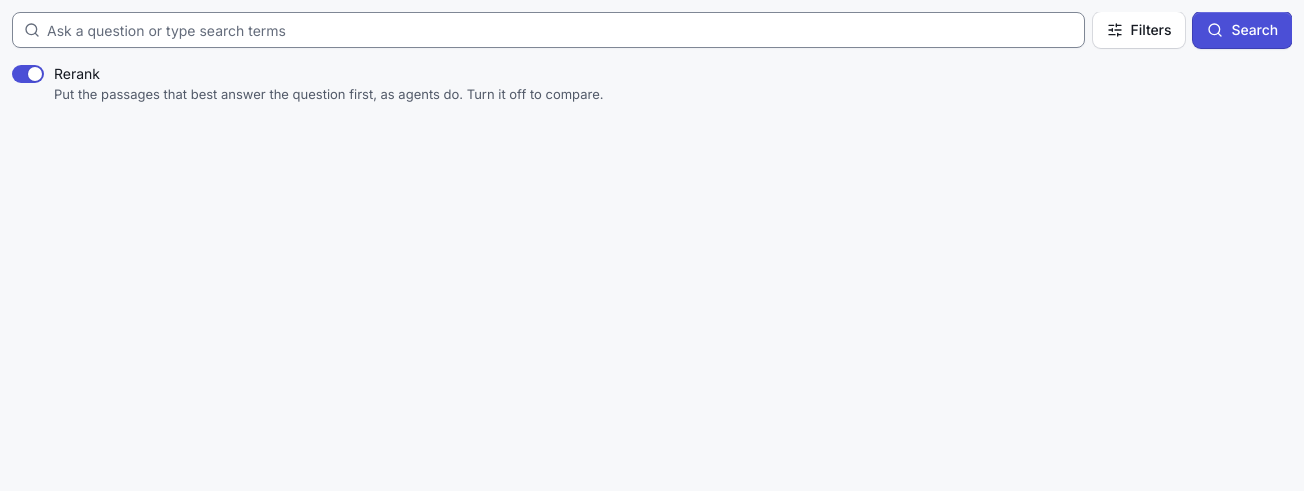
Test: Try it reranking › shows each passage's rerank score and compares without reranking
Type "transcript fee" into the field named "Question or search terms" at {"x": 548, "y": 30}, box [12,12,1085,48]
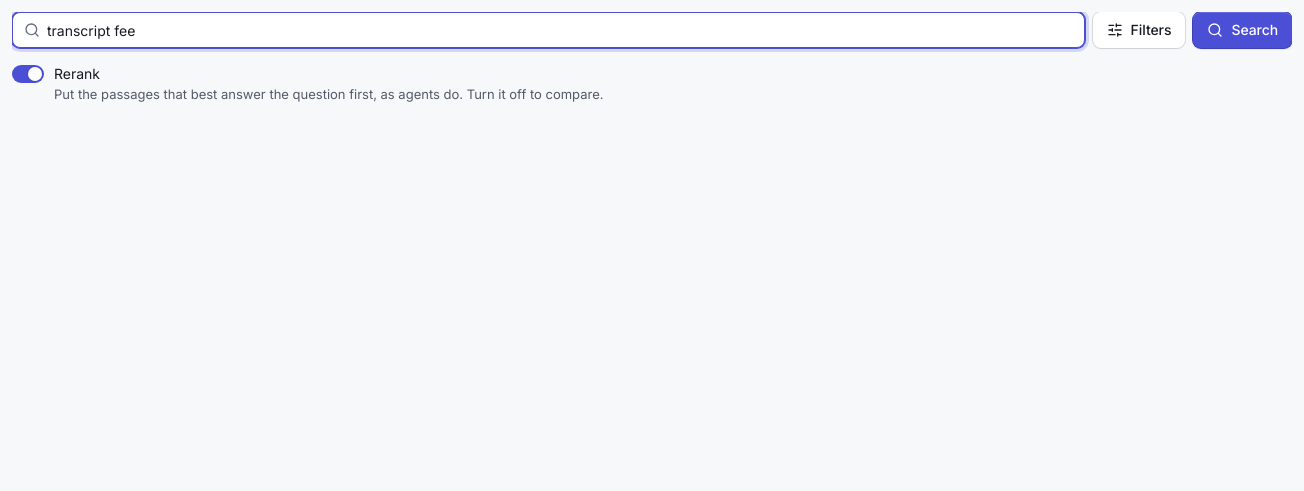
Click the button "Search" at {"x": 1243, "y": 30}, box [1193,12,1292,48]
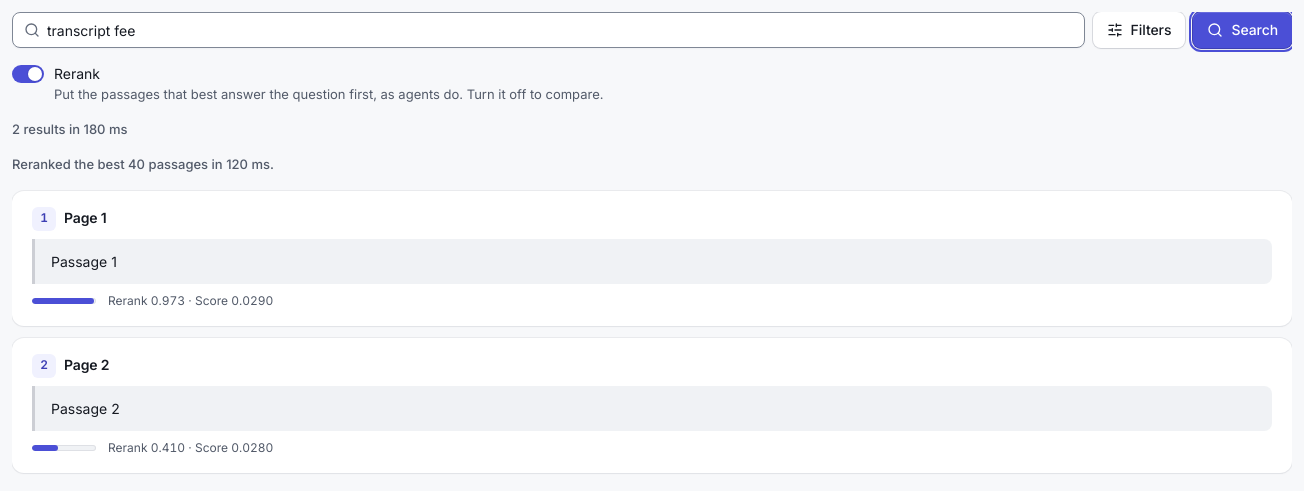
Check: the text "Reranked the best 40 passages in 120 ms." is shown, box [12,156,274,172]
Check: the element showing "1 Page 1 Passage 1 Rerank 0.973 · Score 0.0290" is shown, box [12,190,1292,326]
# Switching Rerank searches again (own-13): no results from the other setting stay under the switch.
Click the switch named "Rerank" at {"x": 28, "y": 74}, box [12,65,44,83]
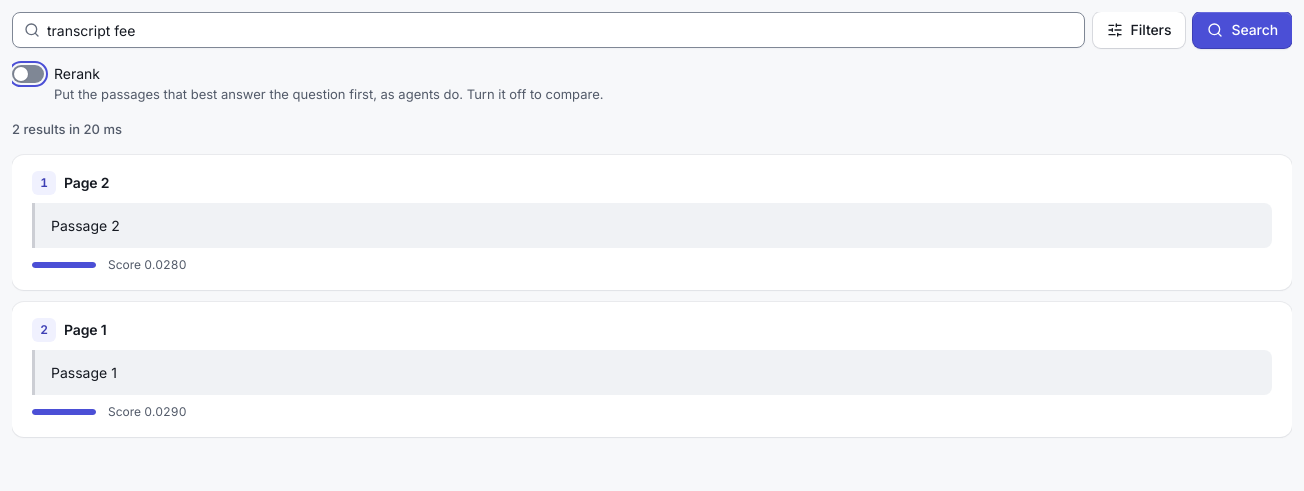
Check: the text "Reranked the best" is gone
Click the switch named "Rerank" at {"x": 28, "y": 74}, box [12,65,44,83]
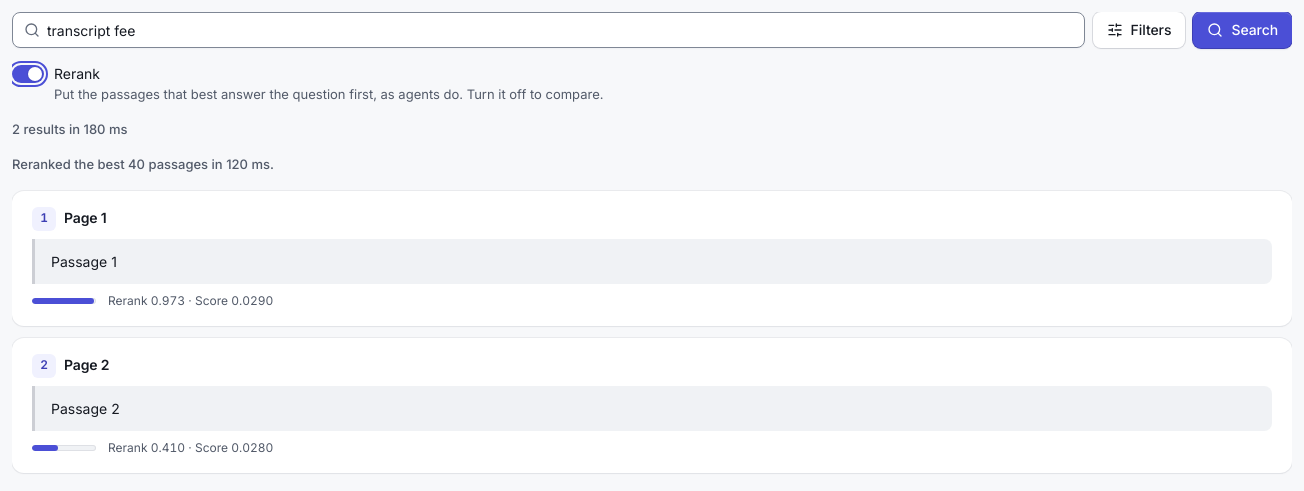
Check: the text "Reranked the best 40 passages in 120 ms." is shown, box [12,156,274,172]
